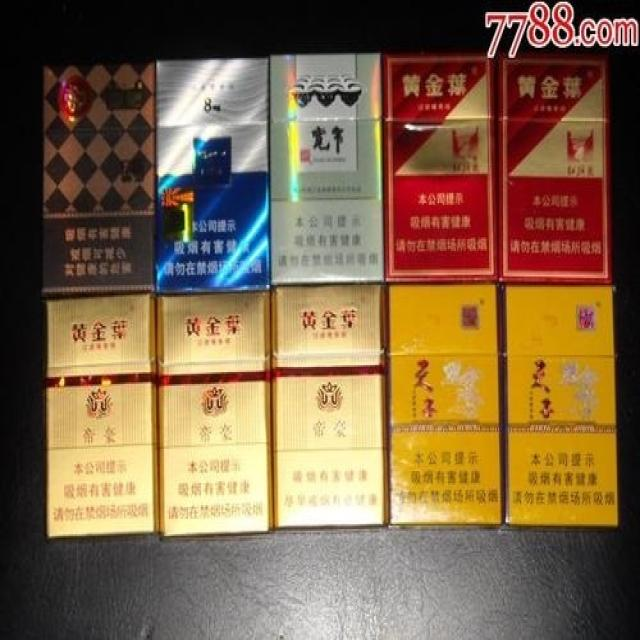box: (157, 288, 275, 539), (271, 283, 388, 534), (502, 285, 620, 529), (387, 283, 503, 529), (44, 294, 159, 541), (41, 58, 155, 297), (269, 53, 384, 285), (156, 58, 269, 294), (383, 55, 499, 283), (498, 56, 611, 283)
